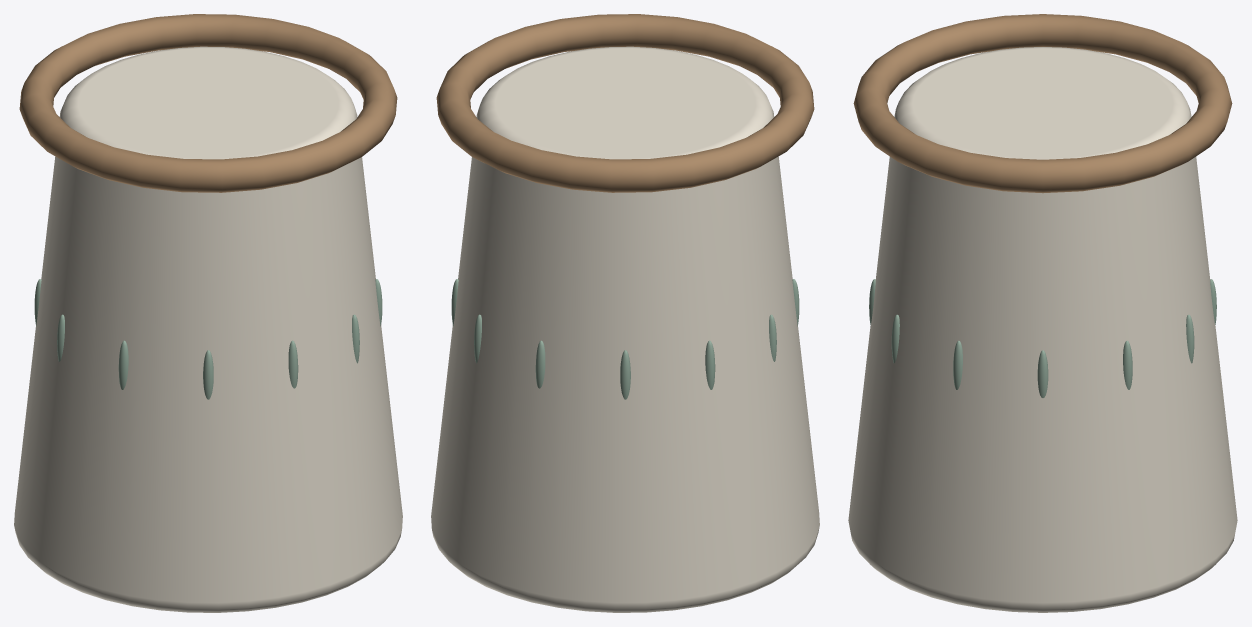
The model's file is waste_bin.glb.
3 renders of one model, left to right at view 1: azimuth 30°, elevation 25°; view 2: azimuth 150°, elevation 25°; view 3: azimuth 270°, elevation 25°, orthographic.
Visible parts, largest first — view 1: Basket body, Rolled rim; view 2: Basket body, Rolled rim; view 3: Basket body, Rolled rim.
Boxes of the visible parts, x1=… form: Basket body: x1=14, y1=46, x2=402, y2=612; Rolled rim: x1=19, y1=14, x2=397, y2=192; Basket body: x1=431, y1=46, x2=819, y2=612; Rolled rim: x1=436, y1=14, x2=814, y2=192; Basket body: x1=848, y1=47, x2=1237, y2=612; Rolled rim: x1=853, y1=14, x2=1232, y2=193.
Size of the model in its own units: 0.2775 by 0.3514 by 0.2775.
